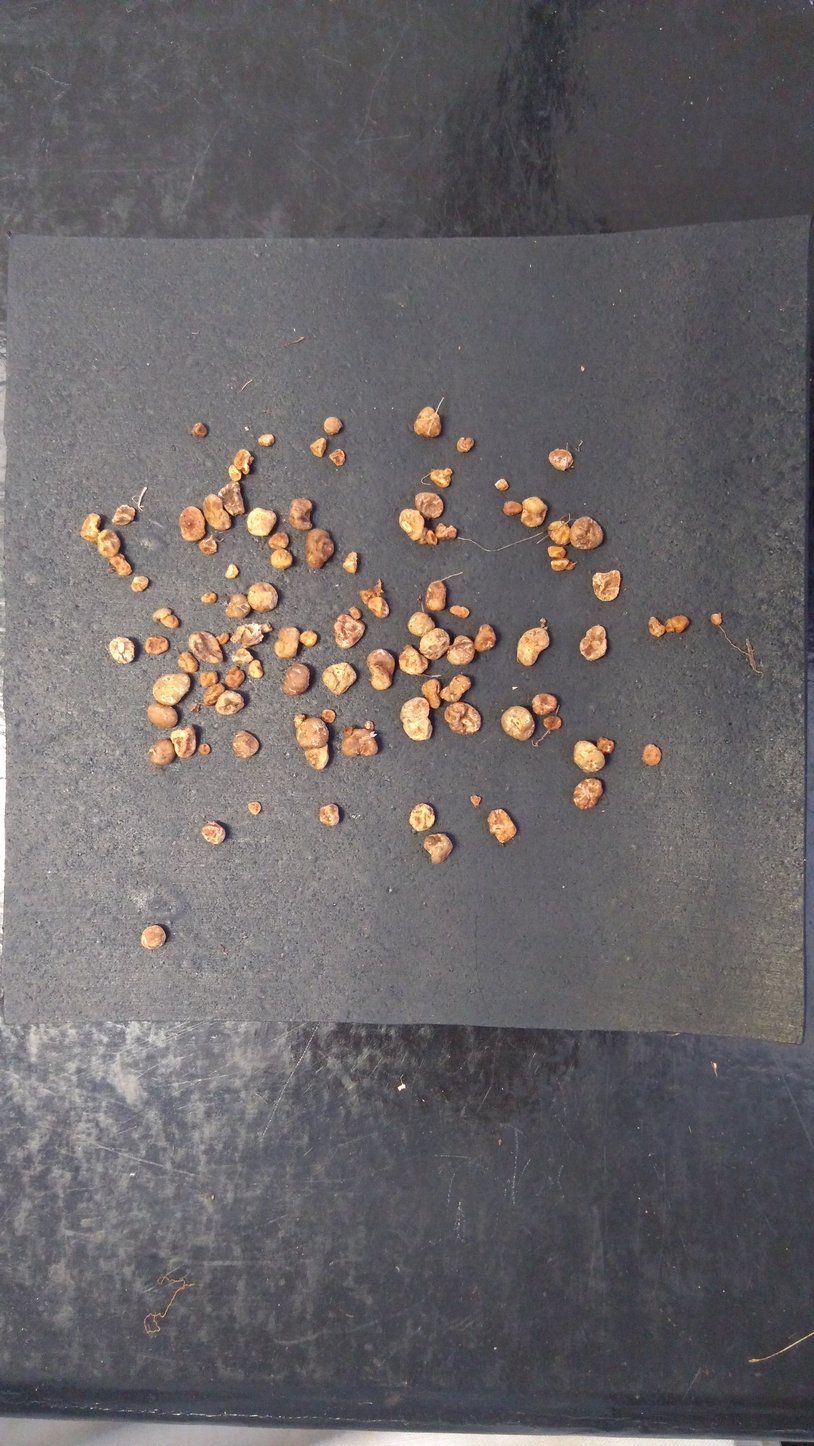nodule: (568, 772, 612, 819), (483, 803, 524, 851), (515, 624, 555, 671), (398, 694, 436, 743), (496, 701, 536, 745), (588, 564, 627, 609), (303, 526, 340, 573), (442, 699, 484, 740), (567, 511, 608, 552), (568, 735, 609, 776), (339, 723, 384, 759), (317, 662, 360, 698), (151, 671, 193, 707), (577, 621, 612, 663), (409, 406, 448, 443), (365, 646, 397, 691), (186, 628, 226, 664), (331, 613, 367, 652), (200, 491, 233, 533), (311, 799, 350, 834), (296, 715, 333, 750), (246, 581, 284, 615), (279, 661, 312, 699), (394, 504, 425, 543), (216, 478, 247, 517), (176, 504, 206, 543), (213, 689, 252, 719), (229, 619, 268, 649), (444, 632, 478, 666), (418, 627, 452, 661), (228, 728, 264, 760), (396, 643, 429, 677), (138, 922, 173, 954), (167, 724, 198, 760), (423, 832, 456, 865), (439, 672, 473, 704), (300, 741, 334, 773), (246, 506, 280, 538), (519, 496, 550, 531), (272, 625, 303, 660), (414, 488, 447, 520), (404, 606, 438, 637), (407, 798, 437, 833), (145, 702, 180, 731), (422, 578, 450, 614), (473, 621, 501, 657), (638, 739, 670, 770), (546, 446, 579, 475), (287, 496, 314, 531), (546, 518, 576, 549), (145, 736, 176, 766), (95, 527, 123, 560), (223, 591, 253, 621), (527, 692, 561, 717), (107, 636, 136, 665), (76, 511, 102, 543), (426, 465, 458, 490), (420, 678, 443, 711), (202, 681, 229, 709), (200, 819, 227, 847), (143, 633, 173, 658), (231, 445, 253, 478), (340, 548, 365, 577), (366, 594, 392, 620), (268, 546, 295, 571), (451, 432, 479, 456), (106, 552, 134, 576), (266, 530, 295, 553), (325, 445, 350, 471), (110, 502, 136, 527), (663, 612, 689, 636), (590, 732, 617, 755), (542, 541, 571, 562), (433, 520, 458, 544), (175, 650, 200, 674), (224, 666, 248, 691), (127, 573, 154, 595), (244, 656, 266, 683), (550, 557, 580, 576), (322, 415, 346, 437), (196, 536, 220, 557), (196, 669, 221, 689), (307, 436, 328, 459), (230, 648, 254, 668), (297, 629, 322, 648), (198, 588, 221, 607), (541, 716, 565, 734), (648, 615, 666, 639), (501, 498, 524, 516), (158, 613, 181, 631), (449, 603, 473, 620), (422, 524, 439, 547), (492, 475, 508, 499), (357, 585, 377, 604), (224, 562, 243, 582), (151, 605, 173, 622), (189, 419, 207, 439), (226, 462, 242, 483), (256, 433, 278, 448), (321, 706, 339, 724), (346, 604, 364, 622), (244, 800, 264, 816), (215, 627, 231, 645), (467, 792, 484, 808), (710, 610, 724, 627), (198, 743, 212, 759)
